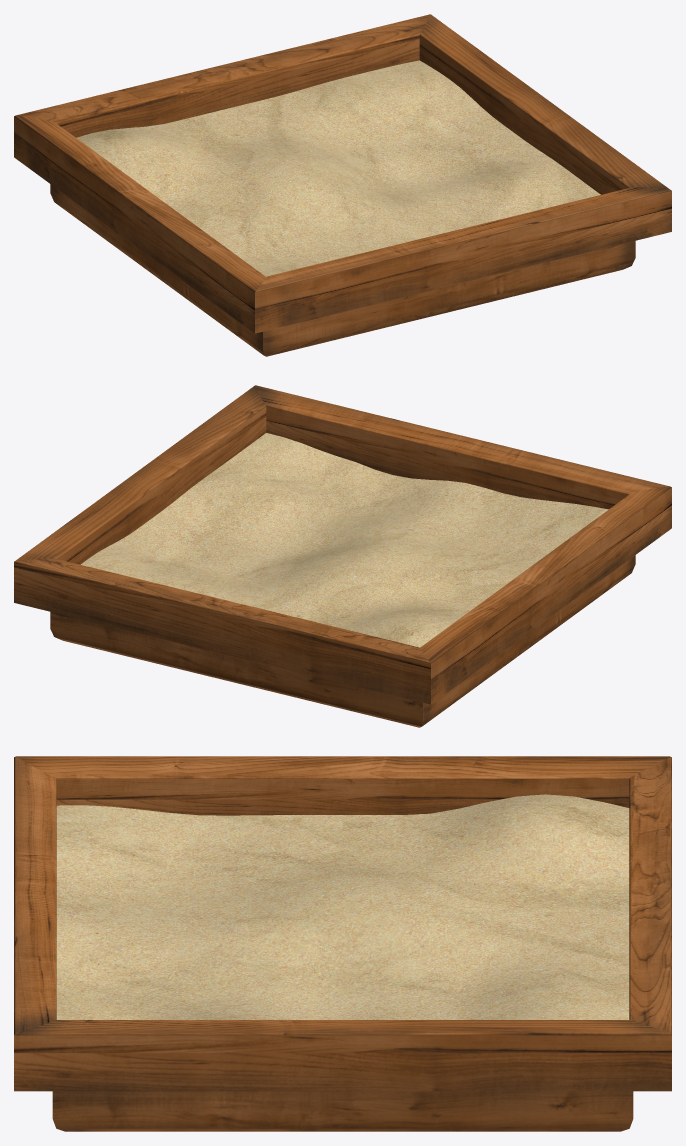
The model's file is sandBoxFull.fbx.
3 renders of one model, top to bottom at view 1: azimuth 30°, elevation 25°; view 2: azimuth 150°, elevation 25°; view 3: azimuth 270°, elevation 25°, orthographic. The views are drawn at different scales.
Visible parts, largest first — view 1: pCube4, pCube2; view 2: pCube4, pCube2; view 3: pCube4, pCube2.
Boxes of the visible parts, box(x1,y1,x2,y2) form: pCube4: box(14, 14, 671, 356); pCube2: box(76, 60, 600, 276); pCube4: box(14, 385, 671, 727); pCube2: box(81, 433, 608, 647); pCube4: box(14, 756, 671, 1131); pCube2: box(56, 794, 629, 1019).
Size of the model in its own units: 23.91 by 4.79 by 23.91.
